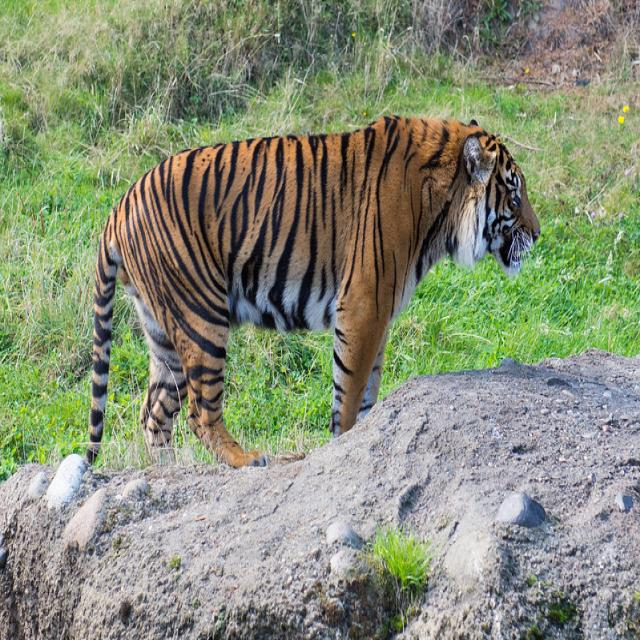Tiger: (84, 112, 539, 467)
